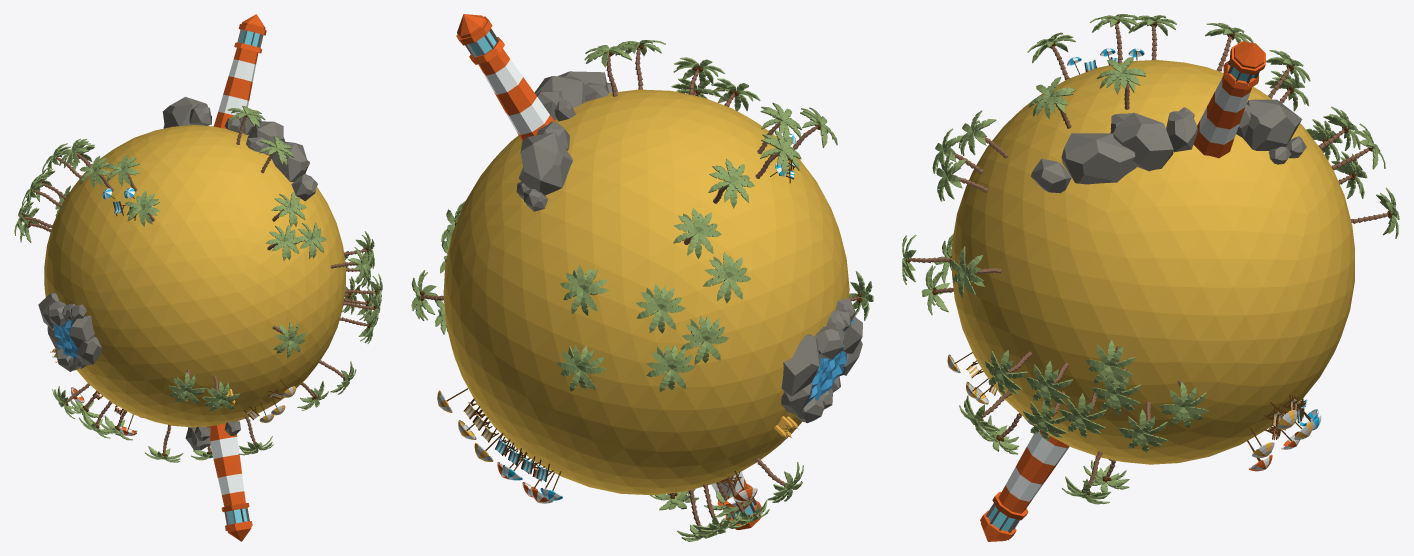
Rendered from SummerPlanet.fbx.
3 views of the same model, side by side, from view 1: azimuth 30°, elevation 25°; view 2: azimuth 150°, elevation 25°; view 3: azimuth 270°, elevation 25° (orthographic). The views are drawn at different scales.
Parts seen in each view (by area): view 1: Palma.076; view 2: Palma.076; view 3: Palma.076.
Part boxes in pixels (box(x1,y1,x2,y2)): Palma.076: box(14, 14, 382, 541); Palma.076: box(411, 14, 873, 541); Palma.076: box(902, 14, 1399, 541).
Bounding box in the file's own units: 2825 × 3743 × 2952.
